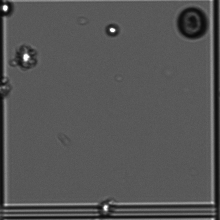Dead Cell: (175, 6, 209, 39)
Living Cell: (16, 46, 36, 69), (97, 199, 113, 215), (1, 1, 15, 17), (104, 23, 120, 36)
